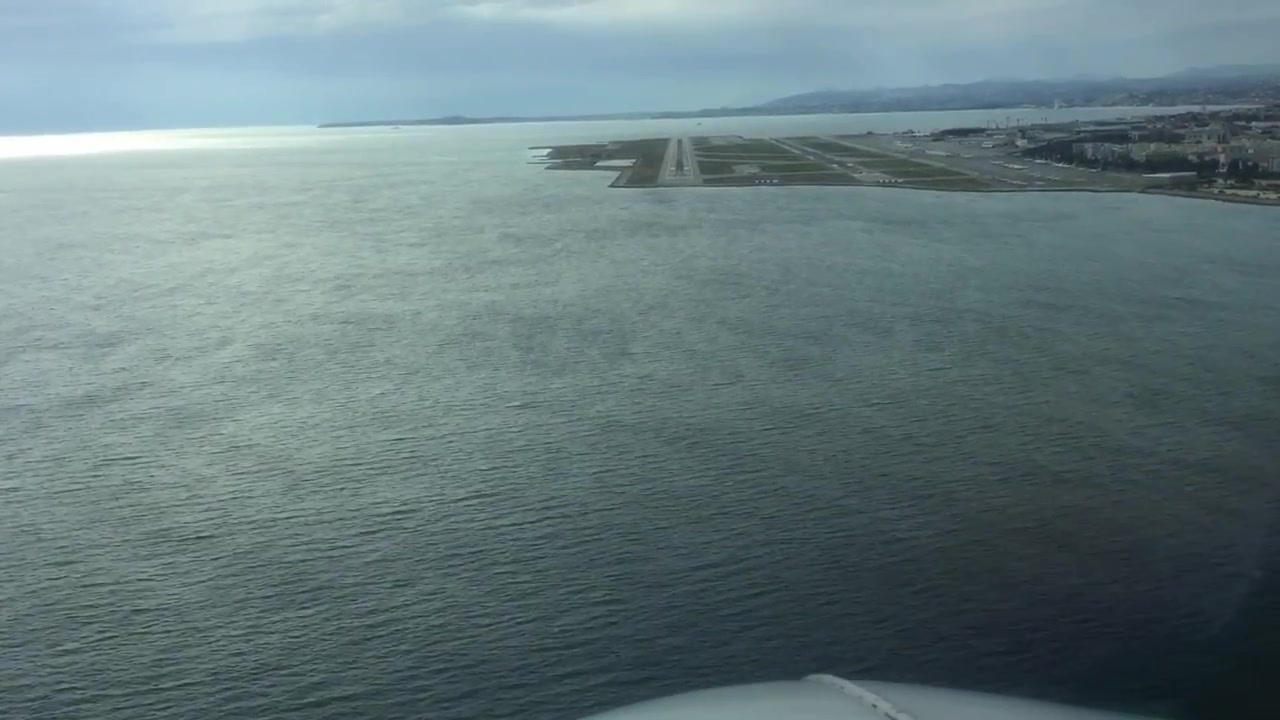runway: (766, 134, 899, 183), (657, 133, 703, 186)
